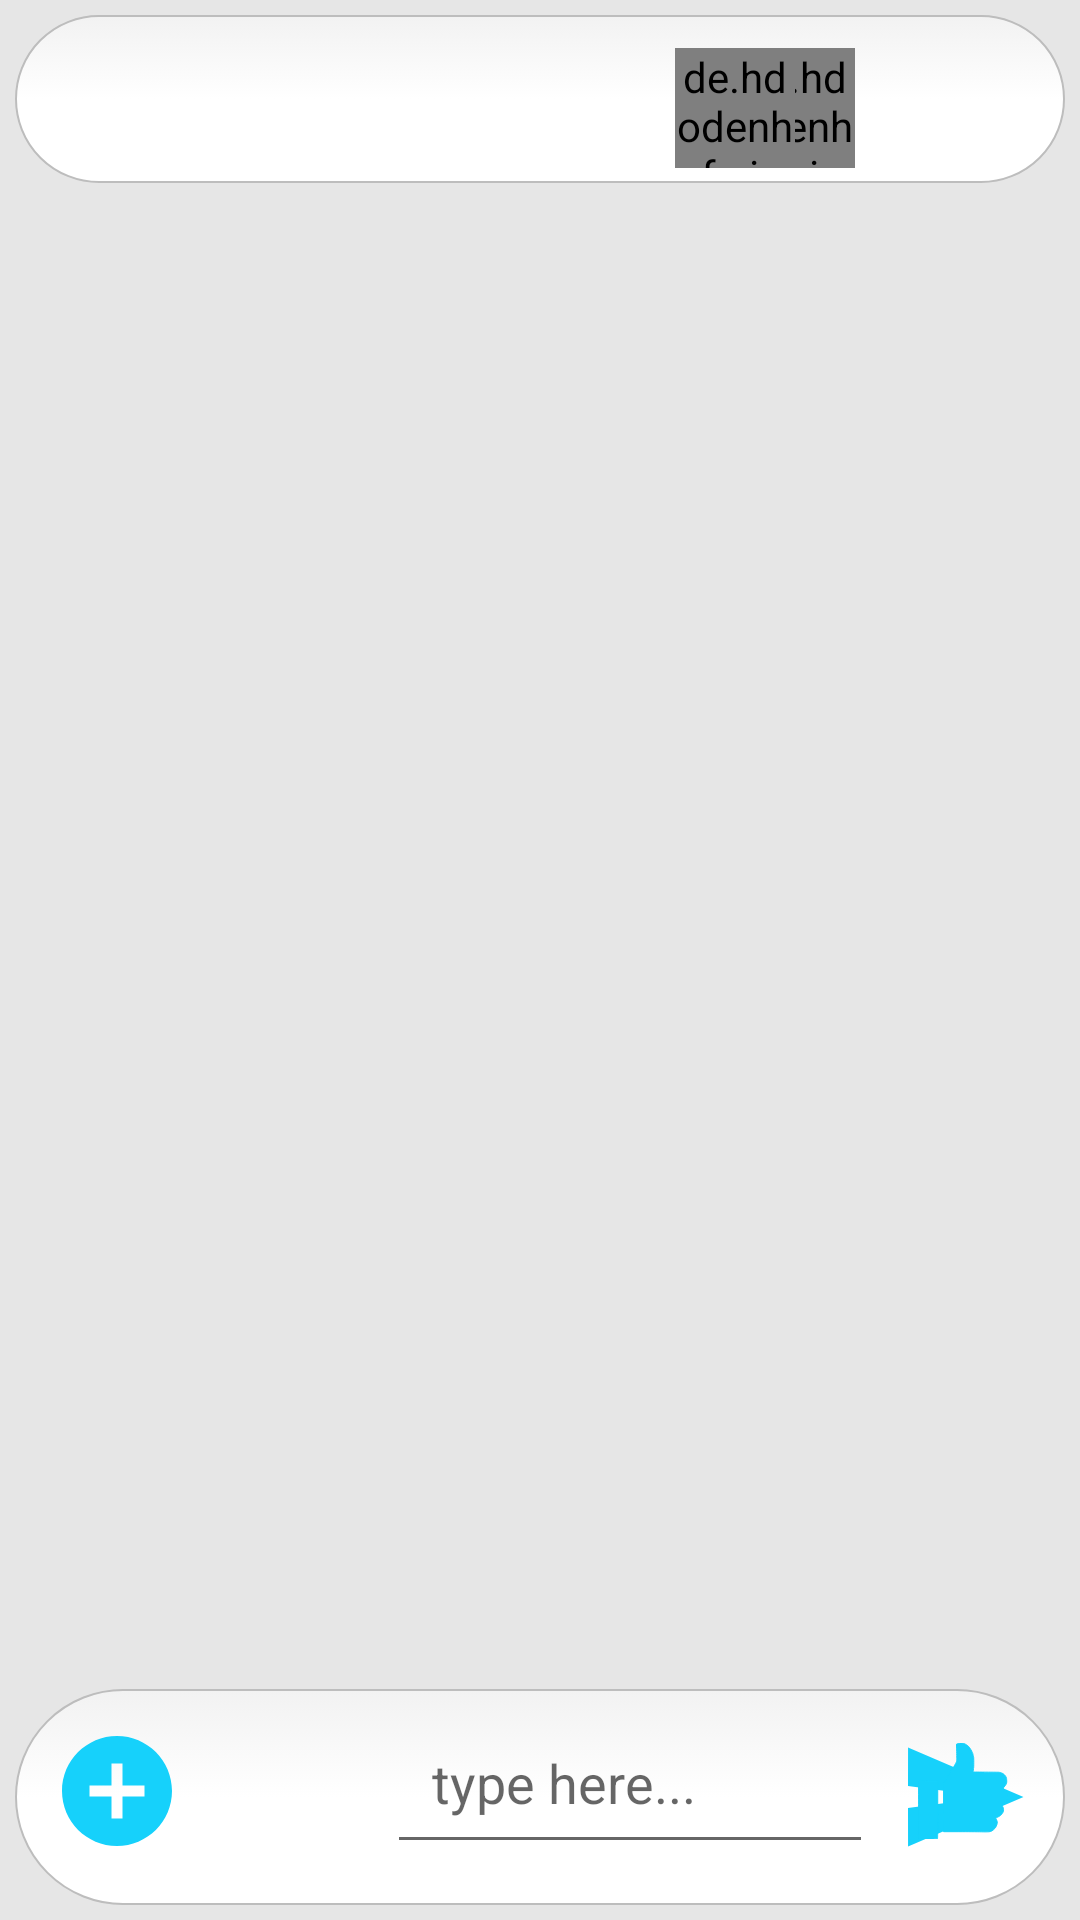

Named icons in this screenshot (1080×1920) and their centers, [x,y]:
add circle: [117,1791]
